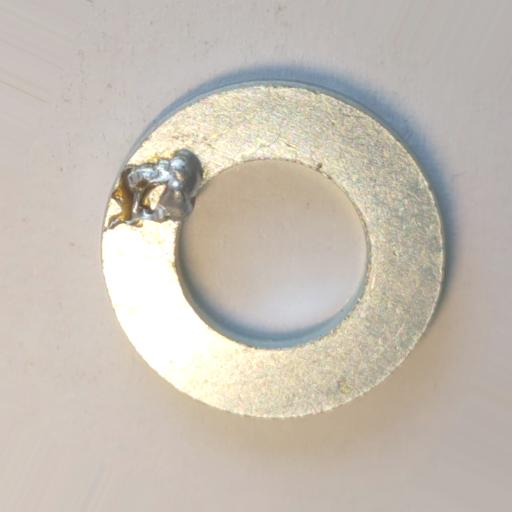excess_material: (102, 147, 204, 233)
